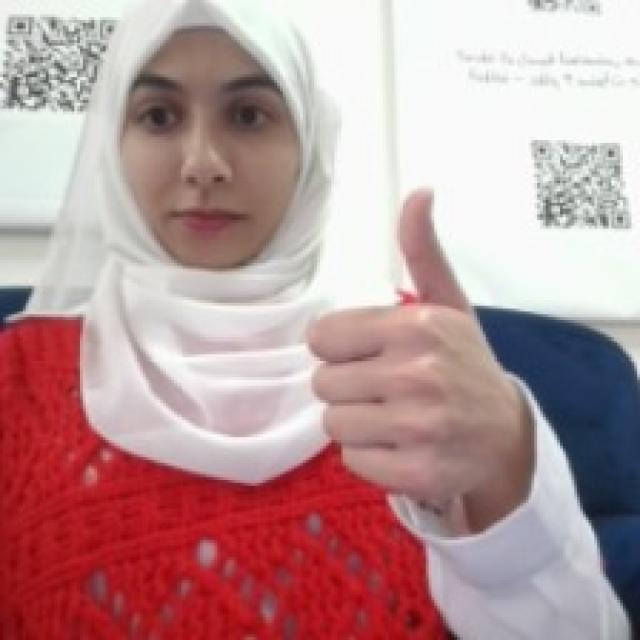fine: (297, 172, 512, 508)
